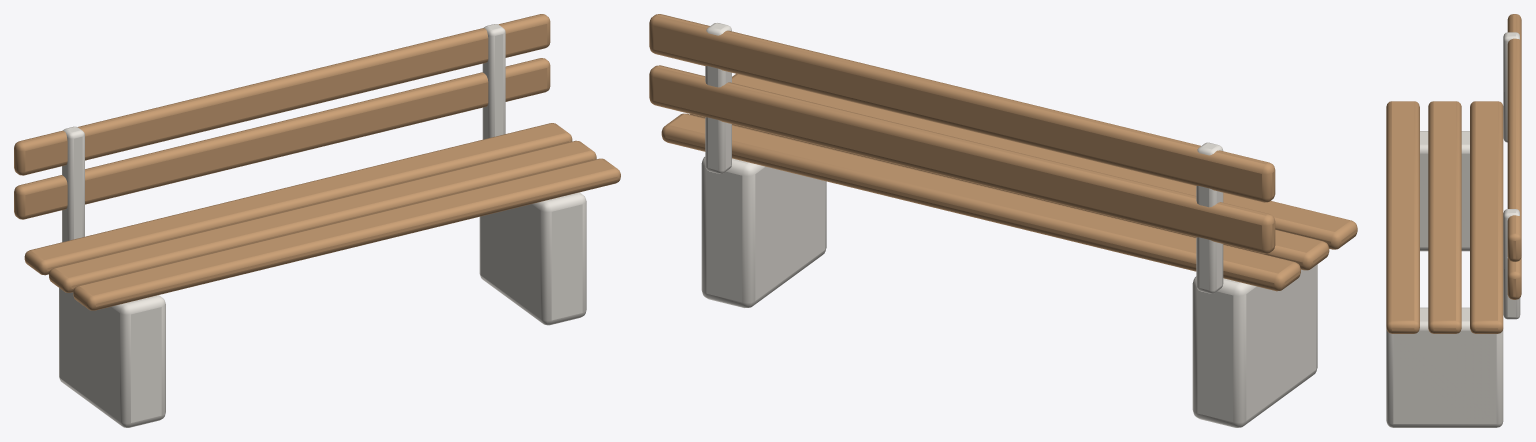
Rendered from bangku-taman.glb.
3 renders of one model, left to right at view 1: azimuth 30°, elevation 25°; view 2: azimuth 150°, elevation 25°; view 3: azimuth 270°, elevation 25°, orthographic. The views are drawn at different scales.
Visible parts, largest first — view 1: BilahSandaran1, BilahSandaran0, BilahDudukan0, BilahDudukan2, BilahDudukan1, KakiBeton0, KakiBeton1, TiangSandaran1, TiangSandaran0; view 2: BilahSandaran1, BilahSandaran0, BilahDudukan2, KakiBeton0, KakiBeton1, BilahDudukan0, BilahDudukan1, TiangSandaran0, TiangSandaran1; view 3: KakiBeton1, BilahDudukan0, BilahDudukan1, BilahDudukan2, BilahSandaran1, KakiBeton0, TiangSandaran1, TiangSandaran0, BilahSandaran0.
Part boxes in pixels (<box>): BilahSandaran1: <box>14,14,550,175</box>; BilahSandaran0: <box>14,58,550,219</box>; BilahDudukan0: <box>73,158,620,310</box>; BilahDudukan2: <box>24,123,572,275</box>; BilahDudukan1: <box>49,140,596,292</box>; KakiBeton0: <box>59,288,165,427</box>; KakiBeton1: <box>479,192,586,325</box>; TiangSandaran1: <box>482,24,505,139</box>; TiangSandaran0: <box>62,126,84,242</box>; BilahSandaran1: <box>649,14,1275,202</box>; BilahSandaran0: <box>649,65,1275,253</box>; BilahDudukan2: <box>661,113,1300,291</box>; KakiBeton0: <box>1192,264,1317,427</box>; KakiBeton1: <box>701,157,826,307</box>; BilahDudukan0: <box>732,74,1357,249</box>; BilahDudukan1: <box>690,114,1329,270</box>; TiangSandaran0: <box>1196,142,1223,293</box>; TiangSandaran1: <box>705,23,731,173</box>; KakiBeton1: <box>1386,307,1503,427</box>; BilahDudukan0: <box>1386,101,1419,333</box>; BilahDudukan1: <box>1428,101,1461,333</box>; BilahDudukan2: <box>1470,101,1503,333</box>; BilahSandaran1: <box>1507,14,1521,261</box>; KakiBeton0: <box>1420,131,1469,251</box>; TiangSandaran1: <box>1503,209,1520,319</box>; TiangSandaran0: <box>1503,32,1519,142</box>; BilahSandaran0: <box>1507,257,1521,299</box>.
Bounding box in the file's own units: 1.9 × 0.83 × 0.485.
